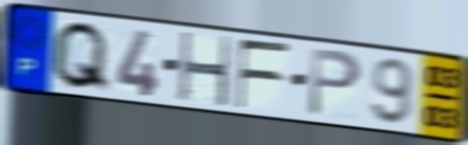4: (113, 25, 161, 100)
9: (369, 55, 417, 127)
F: (234, 37, 293, 111)
H: (177, 30, 234, 110)
P: (306, 45, 364, 119)
Q: (48, 19, 113, 95)
